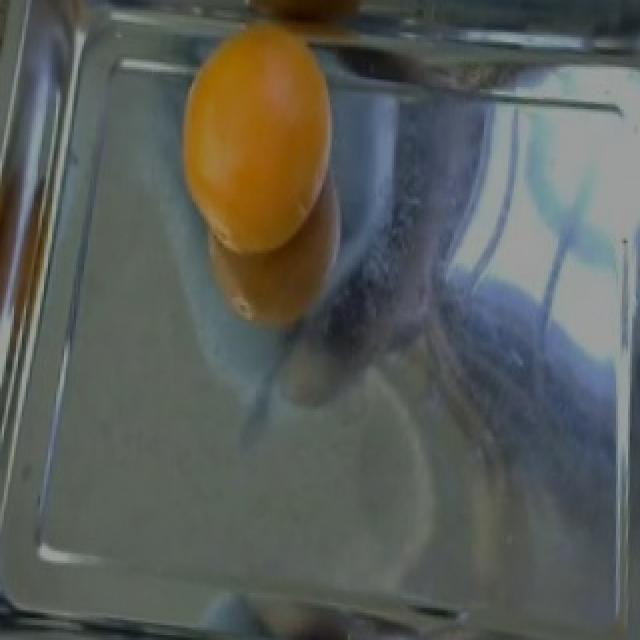Fruit: (164, 10, 340, 337)
